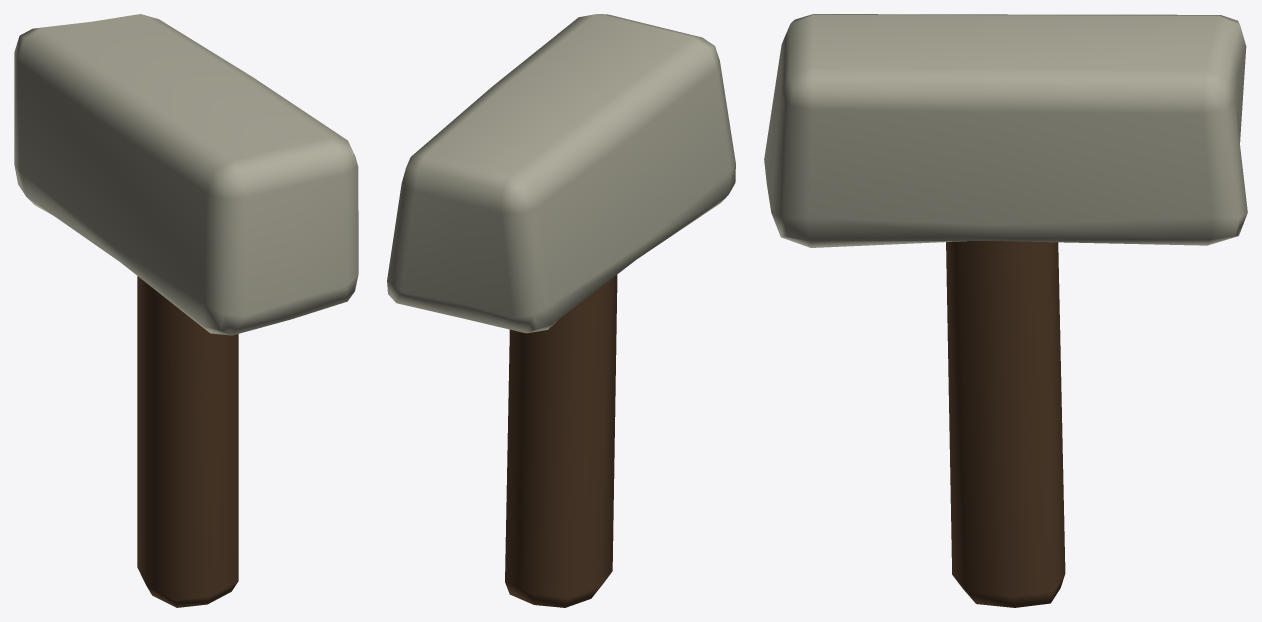
File: MSH_int_Hammer.fbx
The picture shows the model from 3 angles, left to right: view 1: azimuth 30°, elevation 25°; view 2: azimuth 150°, elevation 25°; view 3: azimuth 270°, elevation 25°; orthographic projection. The views are drawn at different scales.
Visible parts, largest first — view 1: Hammer; view 2: Hammer; view 3: Hammer.
Boxes of the visible parts, box(x1,y1,x2,y2) form: Hammer: box(14, 14, 358, 607); Hammer: box(387, 14, 735, 607); Hammer: box(764, 14, 1247, 607).
Size of the model in its own units: 0.9686 by 2.96 by 2.33.
